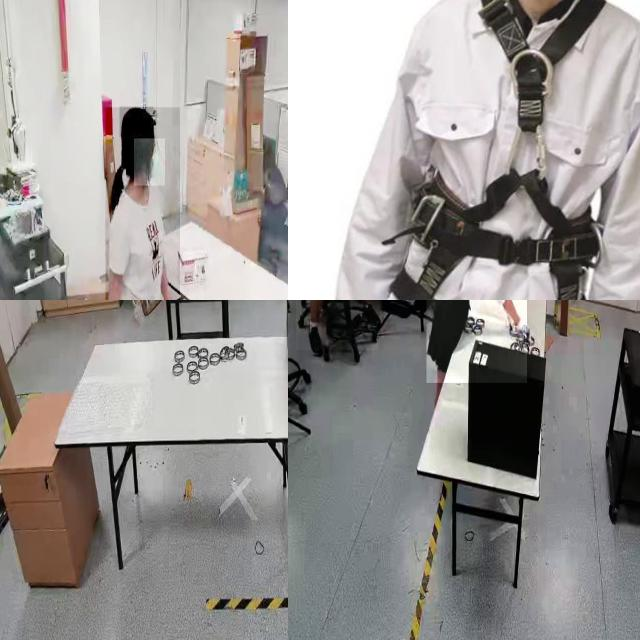Harness: (382, 0, 607, 300)
face_mask: (134, 138, 165, 186)
head_nohelmet: (120, 106, 154, 138)
person: (105, 107, 180, 300), (426, 300, 527, 383), (296, 300, 379, 350)
shoes: (357, 300, 386, 333), (306, 323, 327, 367)
